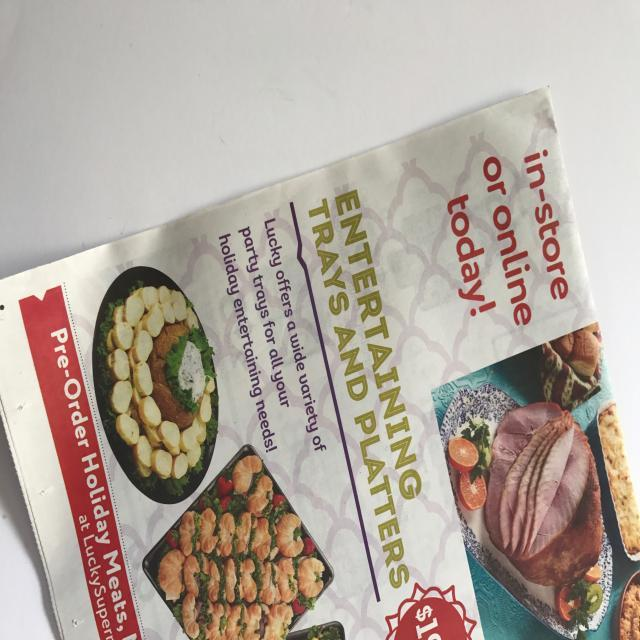paper: (1, 85, 640, 640)
